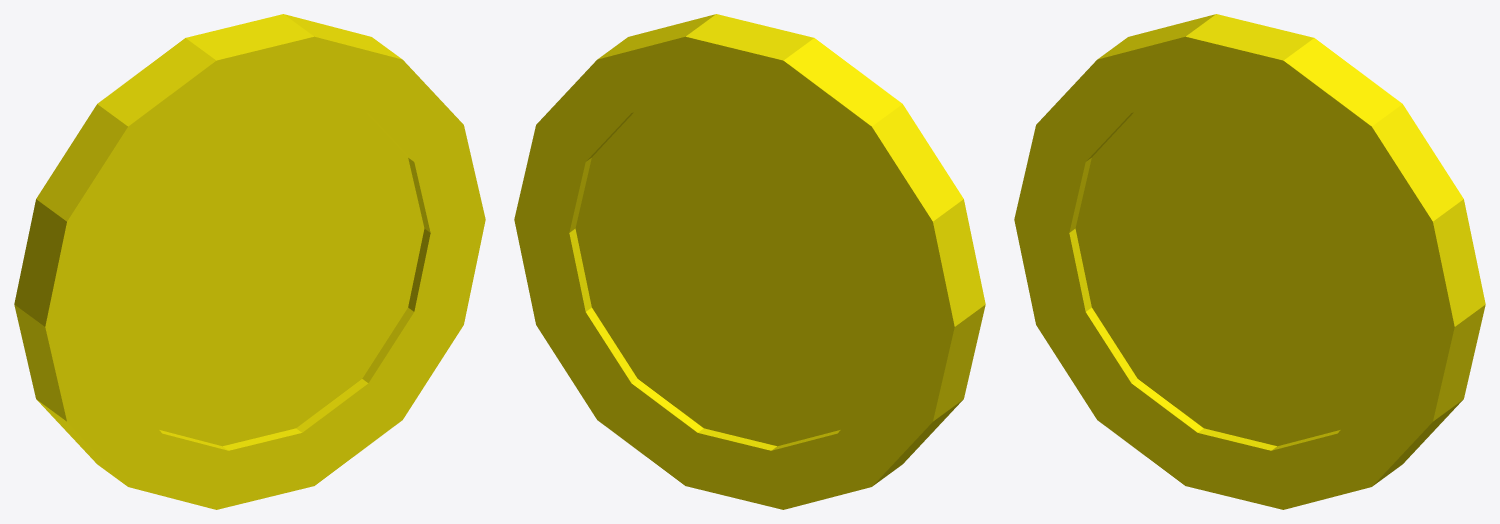
Rendered from bell_currencycoin_-_animal_crossing.glb.
3 renders of one model, left to right at view 1: azimuth 30°, elevation 25°; view 2: azimuth 150°, elevation 25°; view 3: azimuth 330°, elevation 25°, orthographic.
Parts seen in each view (by area): view 1: cylinder_0; view 2: cylinder_0; view 3: cylinder_0.
Part boxes in pixels (x1=…): cylinder_0: x1=14, y1=14, x2=485, y2=509; cylinder_0: x1=514, y1=14, x2=985, y2=509; cylinder_0: x1=1014, y1=14, x2=1485, y2=509.
Size of the model in its own units: 1.03 by 1 by 0.125.
1 material, 1 textured.
